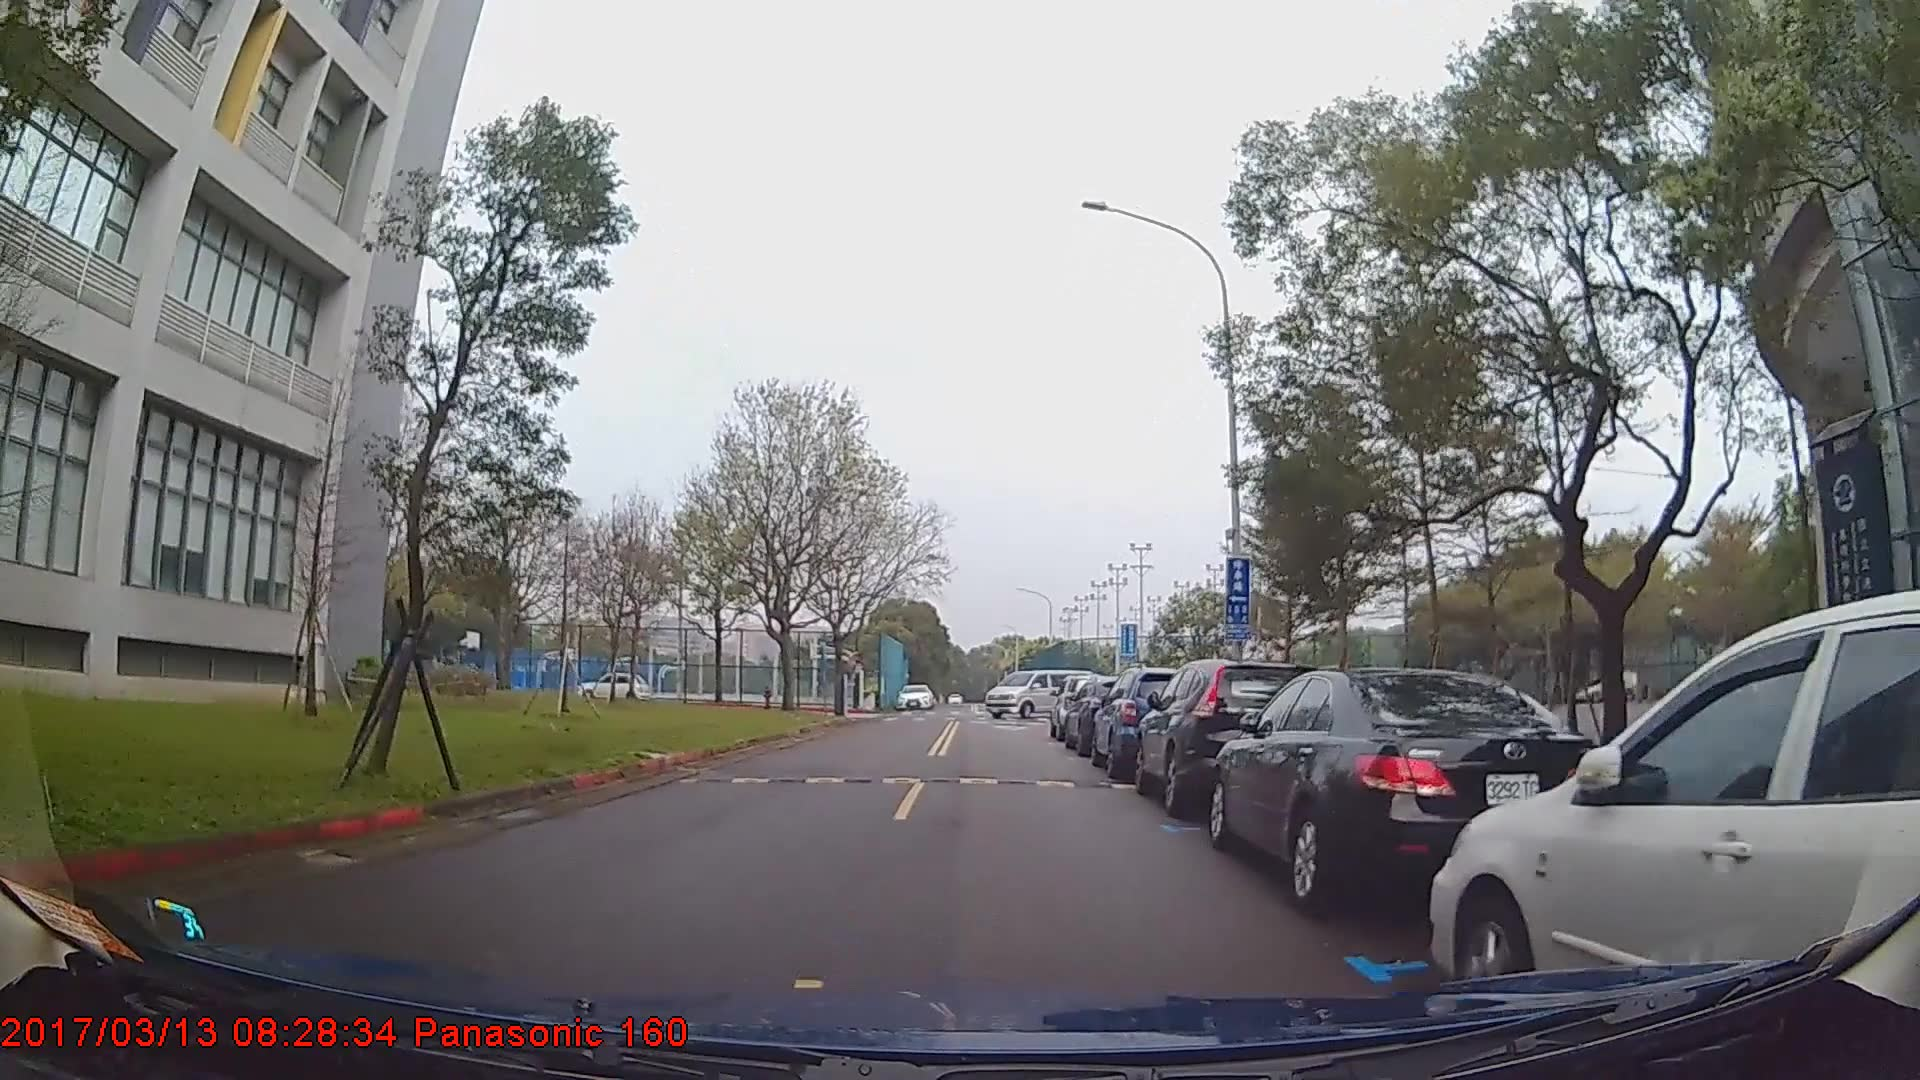vehicle: (1427, 588, 1920, 1031), (1208, 669, 1611, 913), (1131, 658, 1327, 816), (1091, 666, 1199, 779), (986, 669, 1095, 720), (575, 670, 651, 702), (895, 683, 938, 709)
